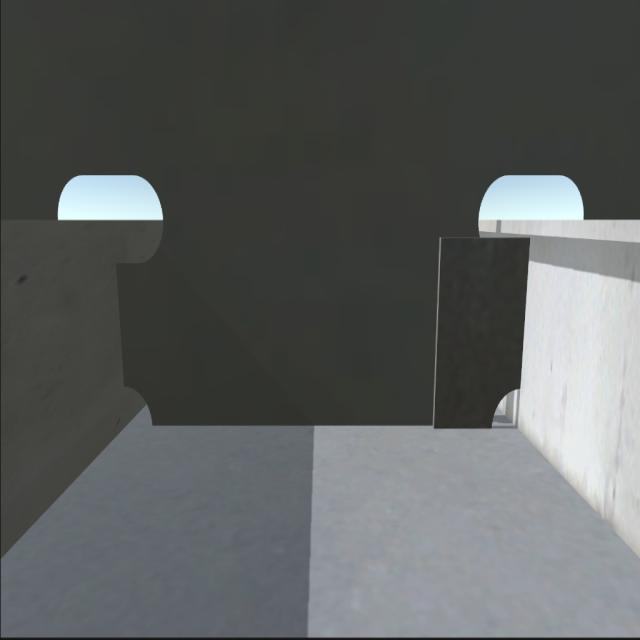fillet_hole: (117, 381, 157, 437), (488, 378, 523, 431)
fillet_yong_jeop_jang: (148, 418, 492, 432)
longi_yong_jeop_jang: (112, 264, 130, 391), (519, 234, 527, 389)
plate_CP01: (435, 231, 525, 431)
